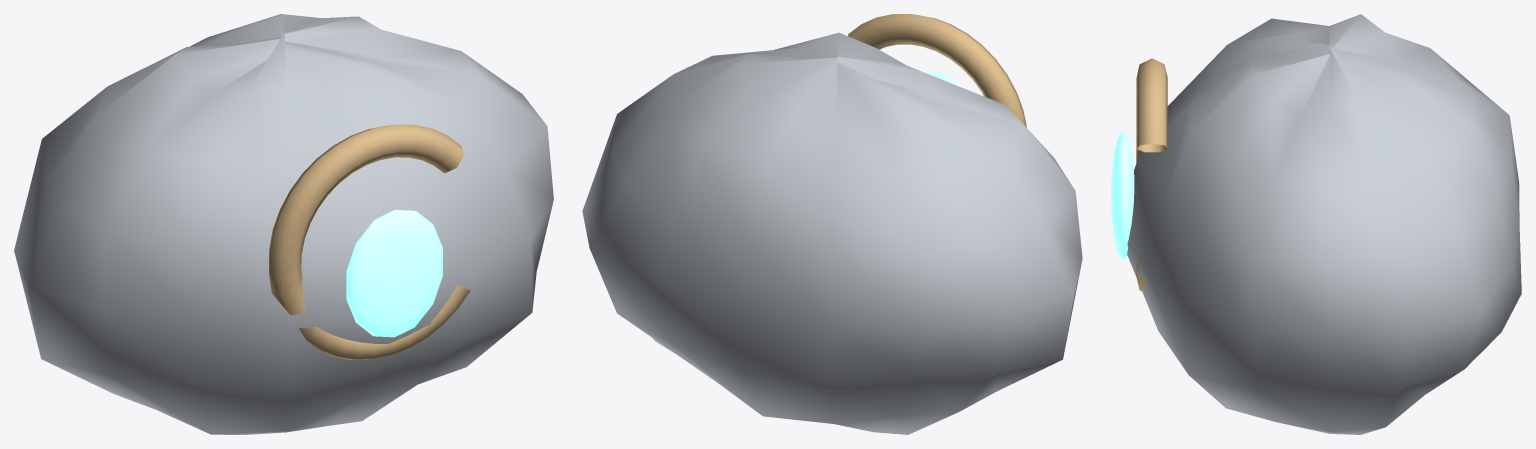
File: way_lullaby_stone.glb
3 views of the same model, side by side, from view 1: azimuth 30°, elevation 25°; view 2: azimuth 150°, elevation 25°; view 3: azimuth 270°, elevation 25° (orthographic). The views are drawn at different scales.
Parts seen in each view (by area): view 1: WAY_lullaby_stone_boulder, WAY_lullaby_stone_crescentglyph, WAY_lullaby_stone_inner_glow; view 2: WAY_lullaby_stone_boulder, WAY_lullaby_stone_crescentglyph; view 3: WAY_lullaby_stone_boulder, WAY_lullaby_stone_crescentglyph, WAY_lullaby_stone_inner_glow.
Part boxes in pixels (bbox=[...]): WAY_lullaby_stone_boulder: bbox=[14, 14, 553, 434]; WAY_lullaby_stone_crescentglyph: bbox=[268, 124, 469, 359]; WAY_lullaby_stone_inner_glow: bbox=[346, 210, 442, 337]; WAY_lullaby_stone_boulder: bbox=[582, 32, 1082, 434]; WAY_lullaby_stone_crescentglyph: bbox=[848, 14, 1026, 127]; WAY_lullaby_stone_boulder: bbox=[1127, 14, 1521, 434]; WAY_lullaby_stone_crescentglyph: bbox=[1136, 58, 1167, 291]; WAY_lullaby_stone_inner_glow: bbox=[1111, 132, 1134, 259].
Bounding box in the file's own units: 1.3 × 0.976 × 0.9954.
